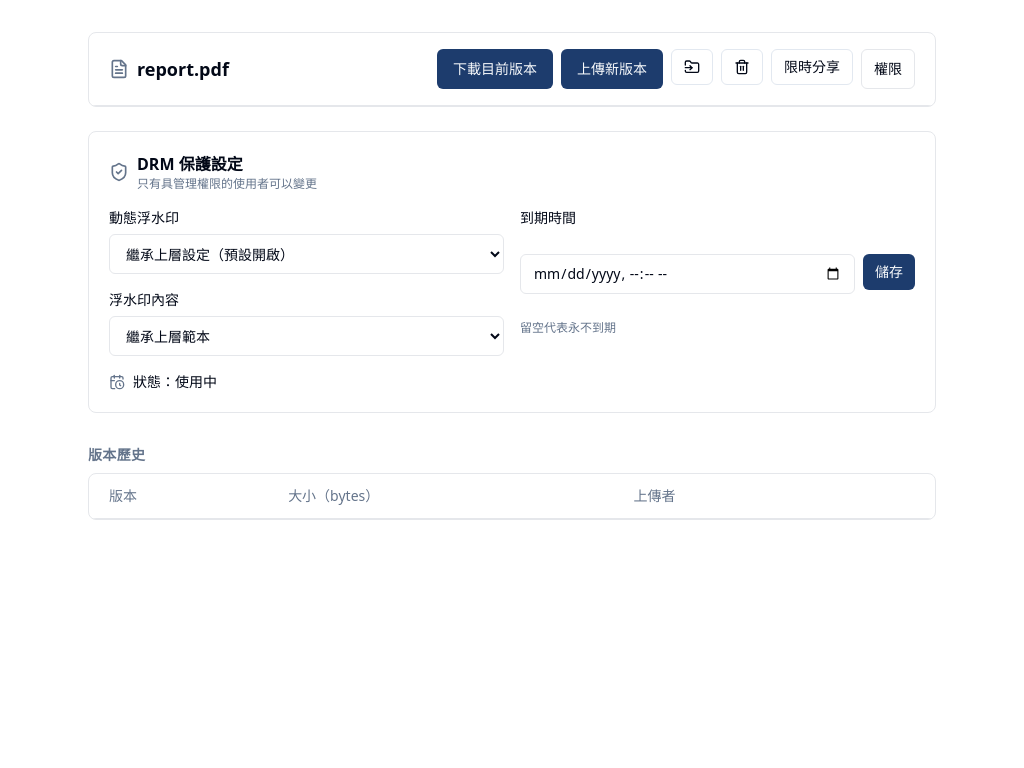
Test: DocumentView › shows a failed header delete error inside the still-open DeleteConfirmDialog
The width and height of the screenshot is (1024, 768).
Step 1. Click the button with test id "delete-document-doc-1" → (742, 67), box [721,49,763,85]
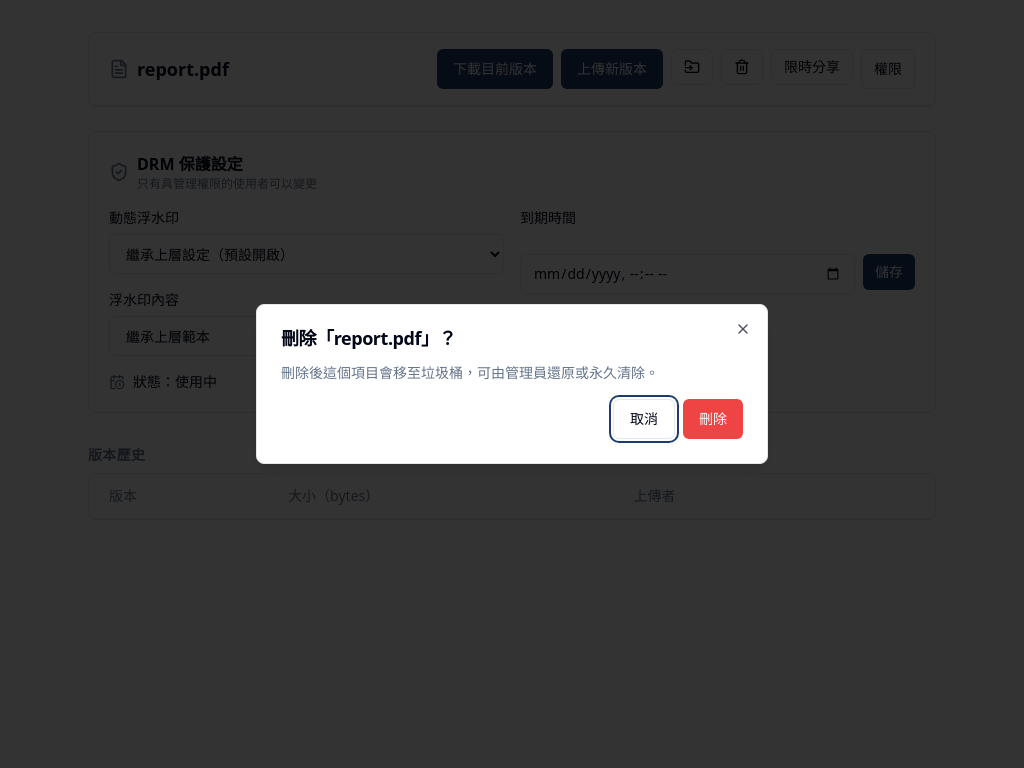
Check: the button with test id "confirm-delete" is shown
Step 2. Click the button with test id "confirm-delete" → (713, 419), box [683,399,743,439]
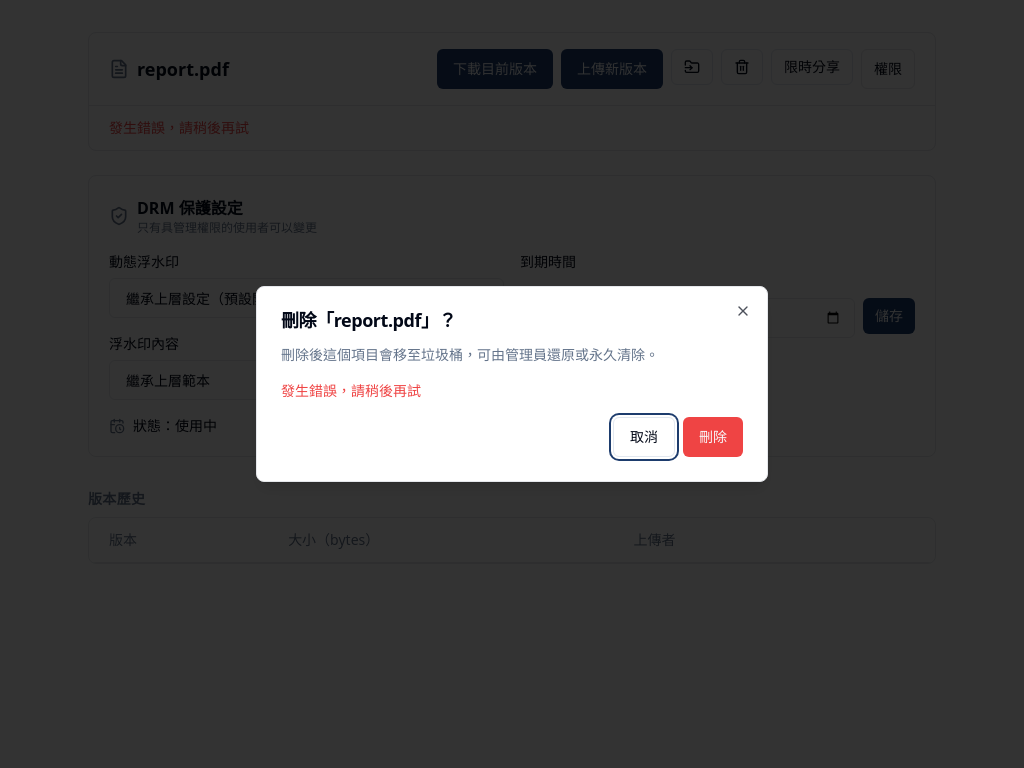
Check: the button with test id "confirm-delete" is shown, box [683,417,743,457]
Check: the text "發生錯誤，請稍後再試" is shown, box [281,381,421,400]
